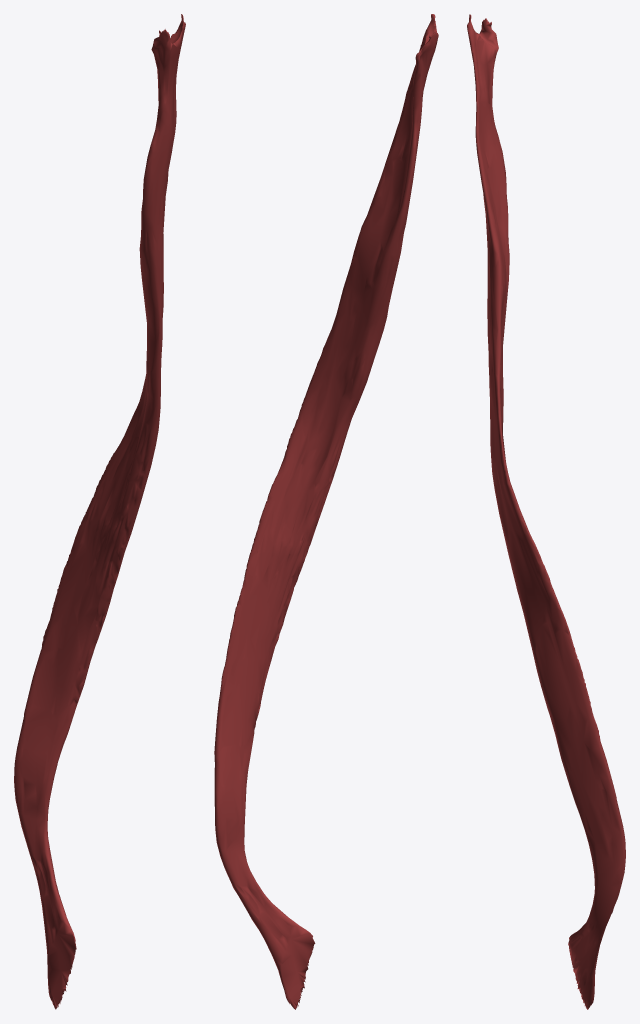
Rendered from sartorius-muscle-r.glb.
The picture shows the model from 3 angles, left to right: view 1: azimuth 90°, elevation 25°; view 2: azimuth 150°, elevation 25°; view 3: azimuth 270°, elevation 25°; orthographic projection. The views are drawn at different scales.
Visible parts, largest first — view 1: Sartorius muscle.r; view 2: Sartorius muscle.r; view 3: Sartorius muscle.r.
Boxes of the visible parts, <box> form: Sartorius muscle.r: <box>14,14,185,1009</box>; Sartorius muscle.r: <box>214,14,438,1009</box>; Sartorius muscle.r: <box>467,14,625,1009</box>.
Bounding box in the file's own units: 0.1032 × 0.5992 × 0.0901.
